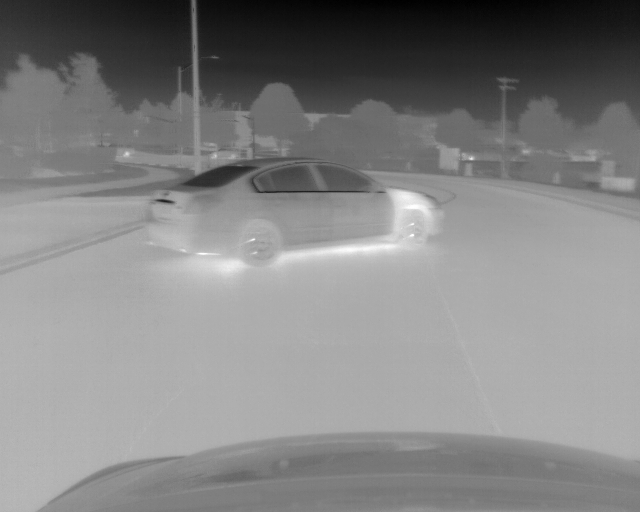car: (144, 155, 444, 271)
